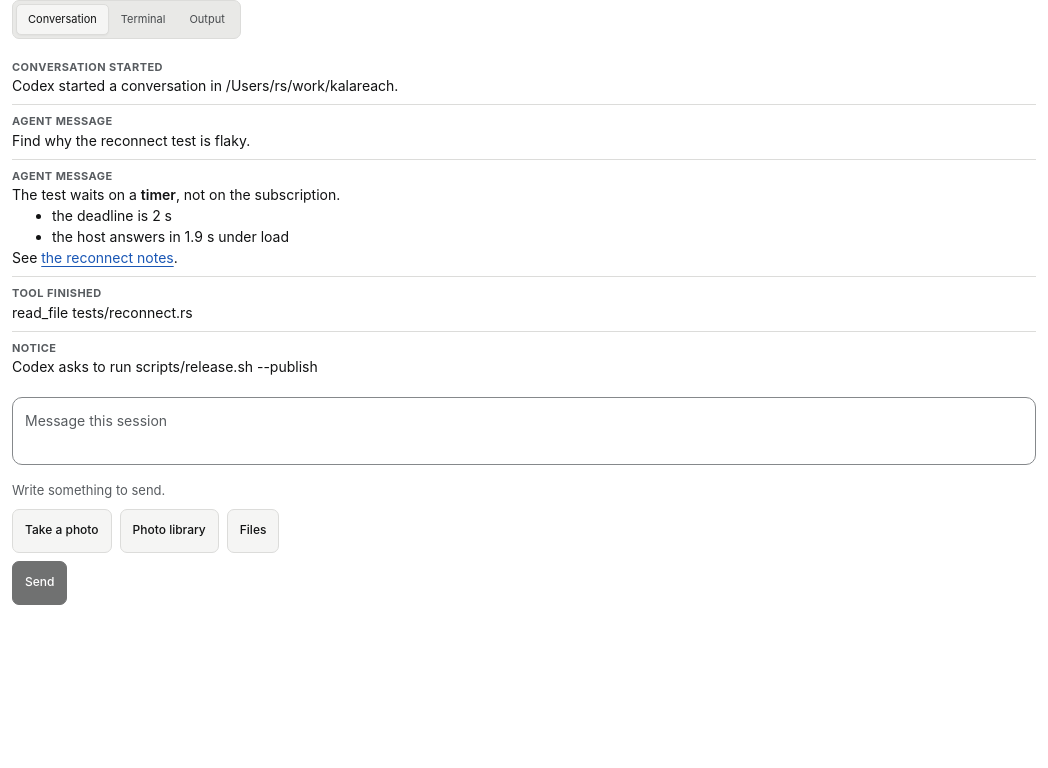
Test: the phone's session view keeps each read to its own session › shows nothing of the session it has left, from the first render after the change
What coordinates should you click on to do the following:
click the tab "Terminal"
I would click on:
 (143, 19)
Its box is [109,4,177,34].
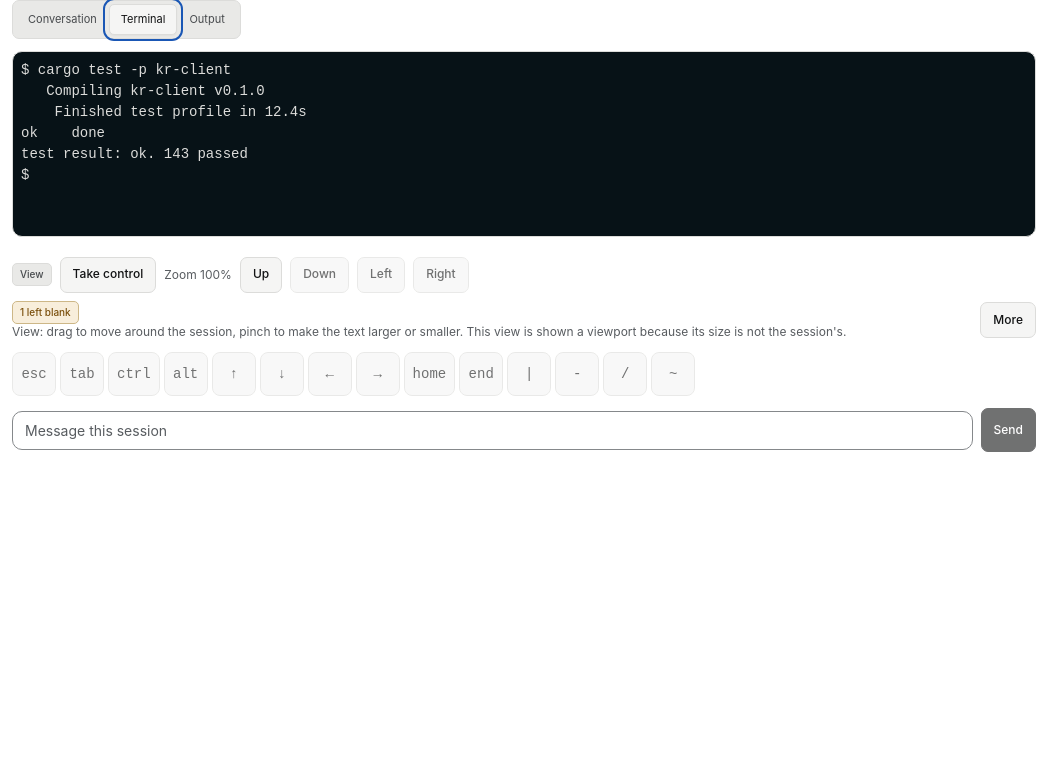
Check: the text with test id "terminal-presentation" shows "its size is not the session's", box [467,324,846,338]
Check: the element with test id "mobile-terminal" shows "cargo test", box [21,62,231,78]
